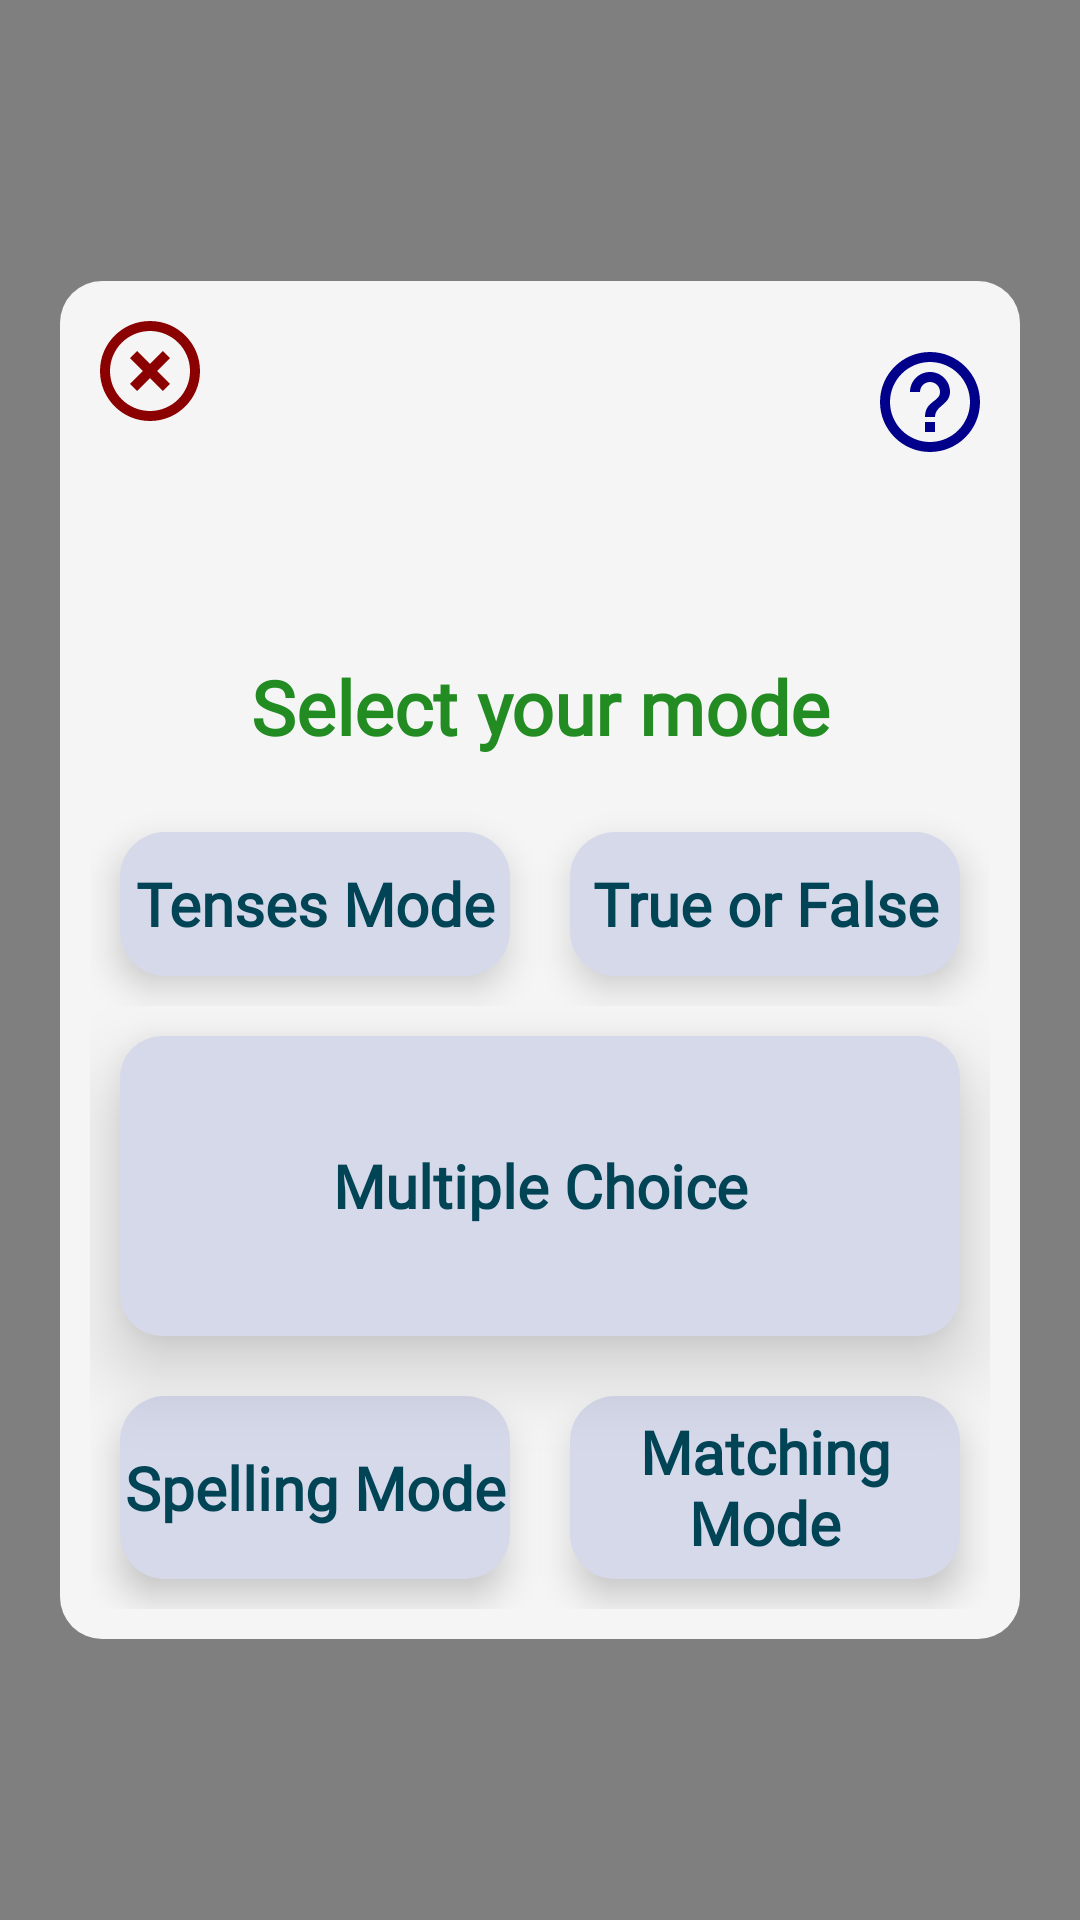

Where to tap for icons on this 1080px x 1920px app screen, as point (x, y):
close: point (150, 371)
help: point (930, 402)
